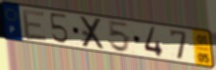4: (143, 25, 165, 59)
5: (106, 19, 132, 53), (49, 12, 69, 45)
7: (169, 28, 190, 61)
E: (21, 9, 49, 42)
X: (79, 15, 107, 51)
